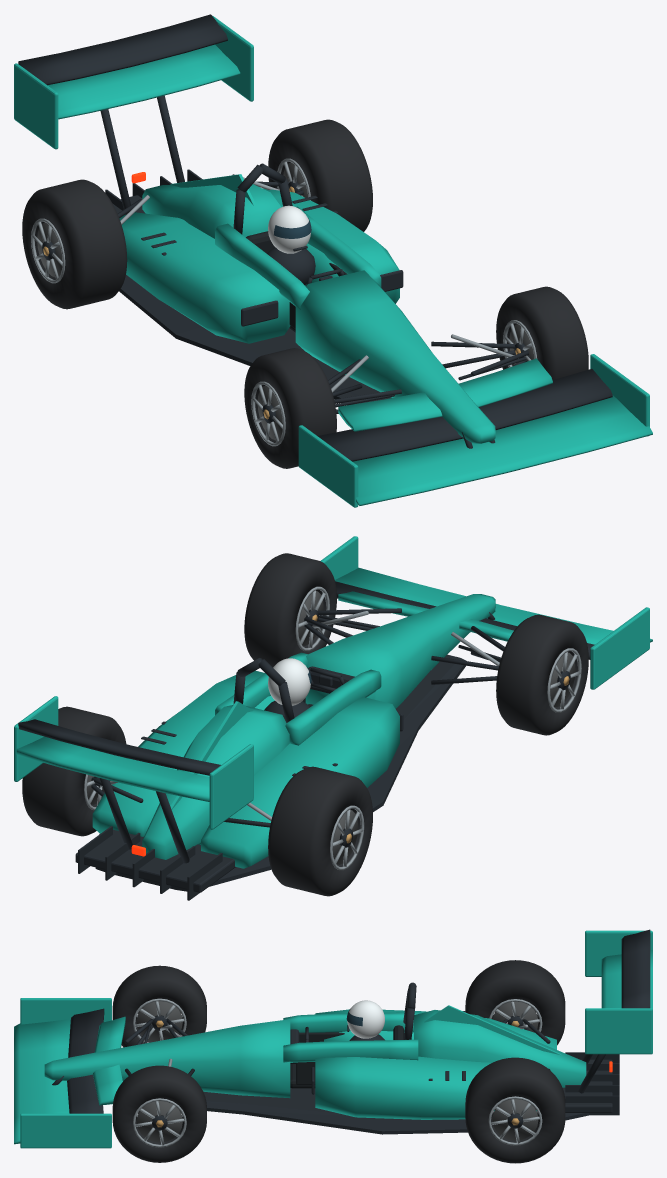
The model's file is formula.glb.
3 renders of one model, top to bottom at view 1: azimuth 30°, elevation 25°; view 2: azimuth 150°, elevation 25°; view 3: azimuth 270°, elevation 25°, orthographic. The views are drawn at different scales.
Parts seen in each view (by area): view 1: Body, FrontWing, RearWing, WheelRearR, WheelFrontR, WheelRearL, WheelFrontL, Floor, Suspension, Helmet, Intakes, RollHoop (+2 smaller); view 2: Body, RearWing, WheelRearR, FrontWing, WheelFrontR, WheelFrontL, WheelRearL, Diffuser, Floor, Suspension, Helmet, RollHoop (+1 smaller); view 3: Body, FrontWing, WheelRearL, RearWing, WheelFrontL, WheelRearR, WheelFrontR, Floor, Diffuser, Cockpit, Helmet, EngineFin (+2 smaller).
Part boxes in pixels (x1,y1,x2,y2): Body: (119,184,495,443); FrontWing: (298,354,652,507); RearWing: (14,14,253,214); WheelRearR: (22,179,127,309); WheelFrontR: (244,348,336,468); WheelRearL: (268,119,372,231); WheelFrontL: (496,286,588,380); Floor: (119,275,391,405); Suspension: (118,174,529,413); Helmet: (268,205,311,253); Intakes: (141,195,403,326); RollHoop: (233,163,292,234); Body: (92,594,495,868); RearWing: (14,696,253,863); WheelRearR: (268,766,372,896); FrontWing: (320,536,652,689); WheelFrontR: (496,614,588,735); WheelFrontL: (244,553,336,667); WheelRearL: (22,706,126,836); Diffuser: (75,826,235,900); Floor: (95,654,466,891); Suspension: (91,608,504,827); Helmet: (268,658,311,705); RollHoop: (233,658,294,722); Body: (44,1009,586,1119); FrontWing: (14,998,125,1148); WheelRearL: (465,1057,565,1163); RearWing: (578,929,652,1093); WheelFrontL: (112,1065,206,1162); WheelRearR: (465,960,565,1045); WheelFrontR: (112,965,206,1047); Floor: (203,1088,588,1134); Diffuser: (562,1052,619,1115); Cockpit: (290,1025,404,1088); Helmet: (346,1000,384,1038); EngineFin: (424,1005,561,1054).
Bounding box in the file's own units: 2.05 × 1.11 × 4.6.
